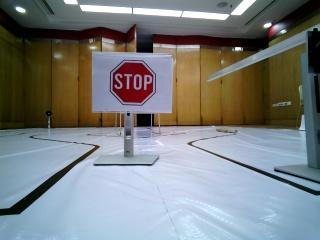stop: (102, 57, 172, 113)
